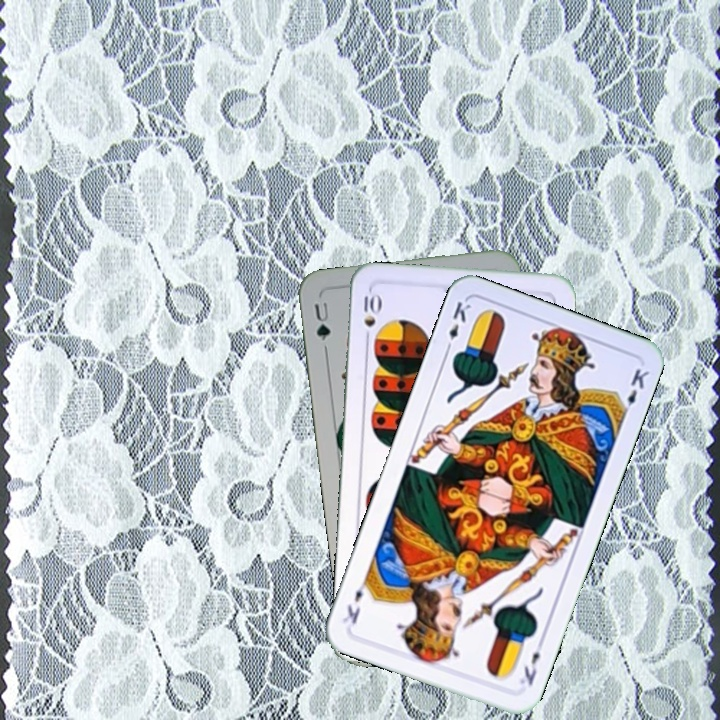EK: (441, 297, 474, 355), (516, 635, 547, 688)
GU: (310, 298, 334, 343)
S10: (360, 289, 382, 346)
